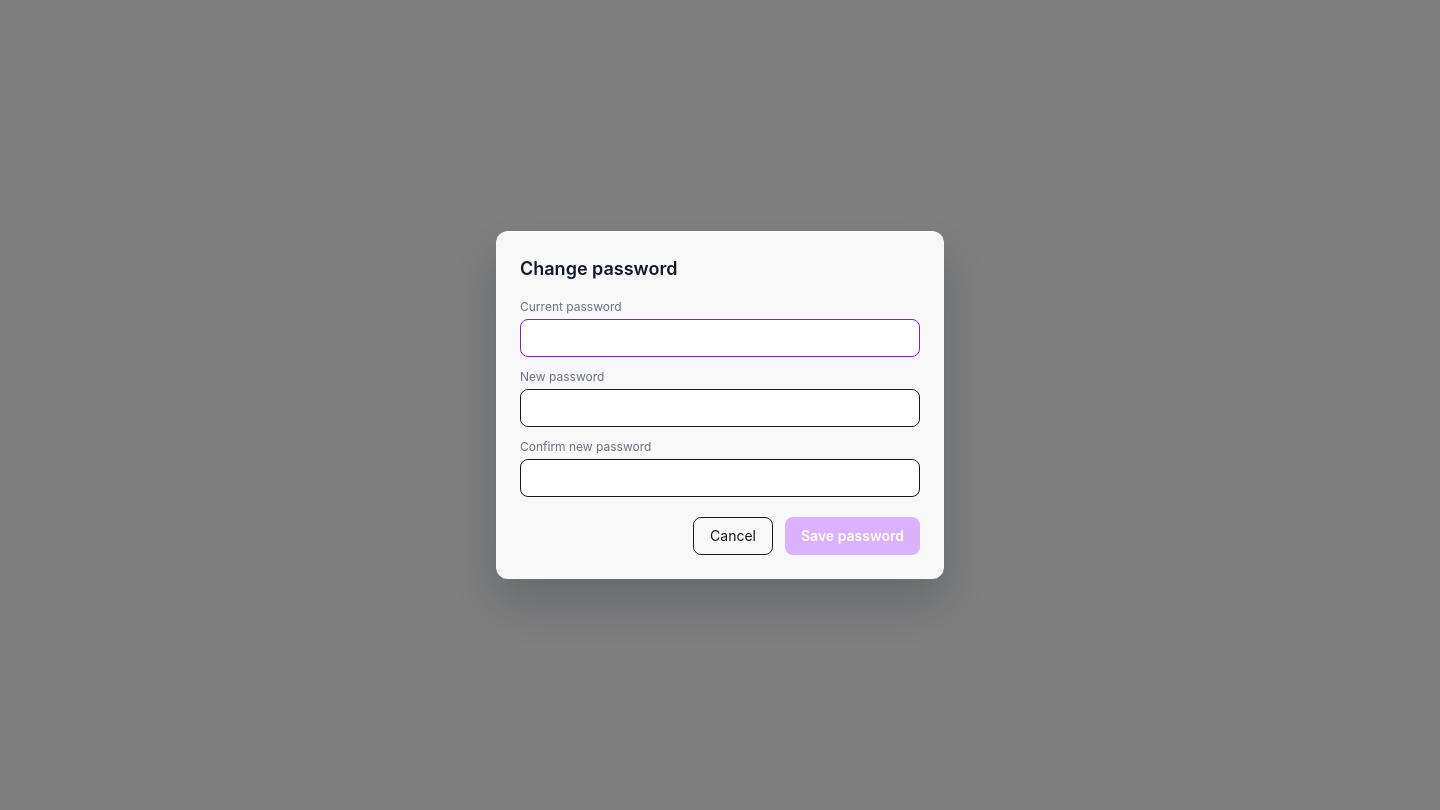
Test: ChangePasswordModal › shows network error on request failure
The width and height of the screenshot is (1440, 810).
Type "current123" into the password field labelled "Current password" at (720, 338), box [520, 319, 920, 357]
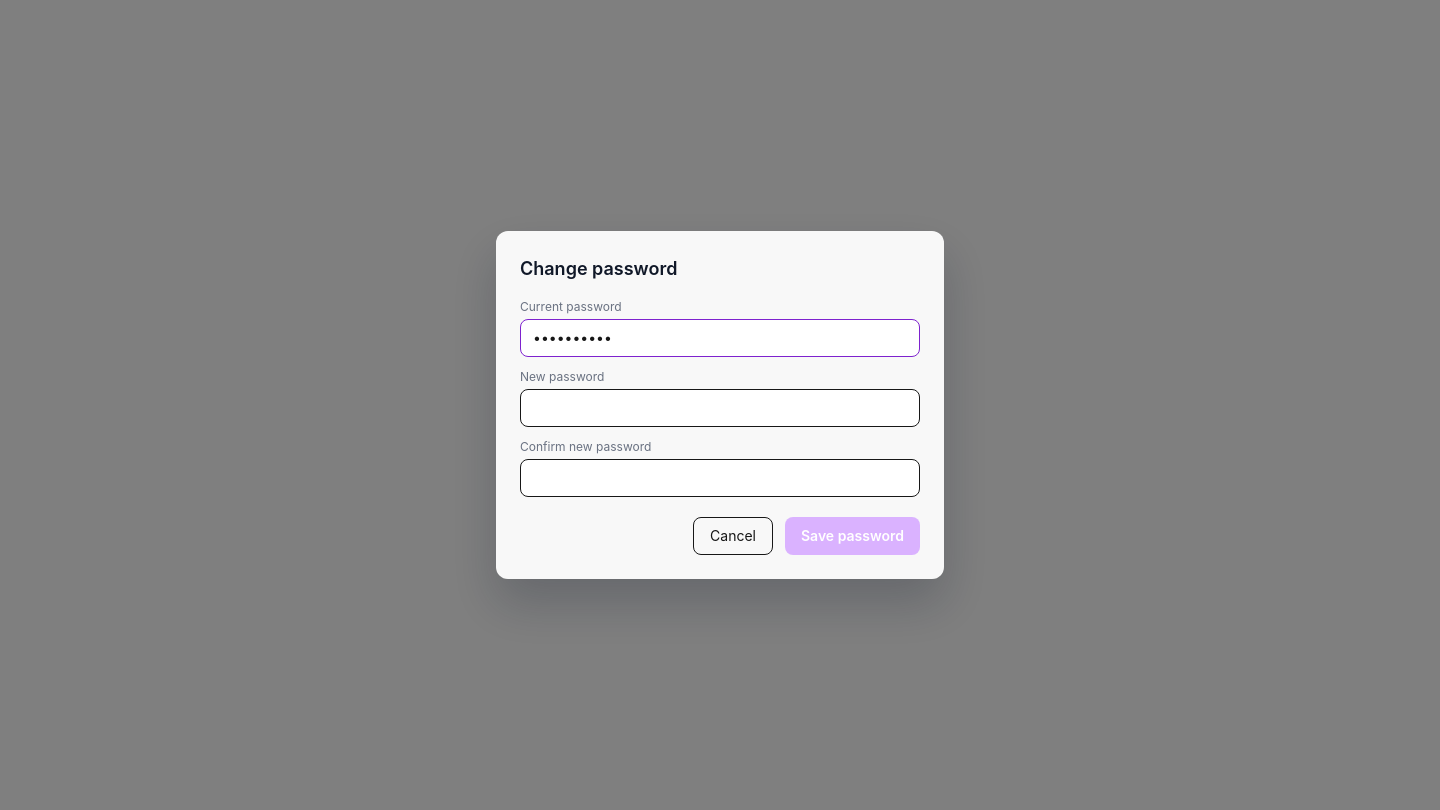
Type "newpassword" into the password field labelled "New password" at (720, 408), box [520, 389, 920, 427]
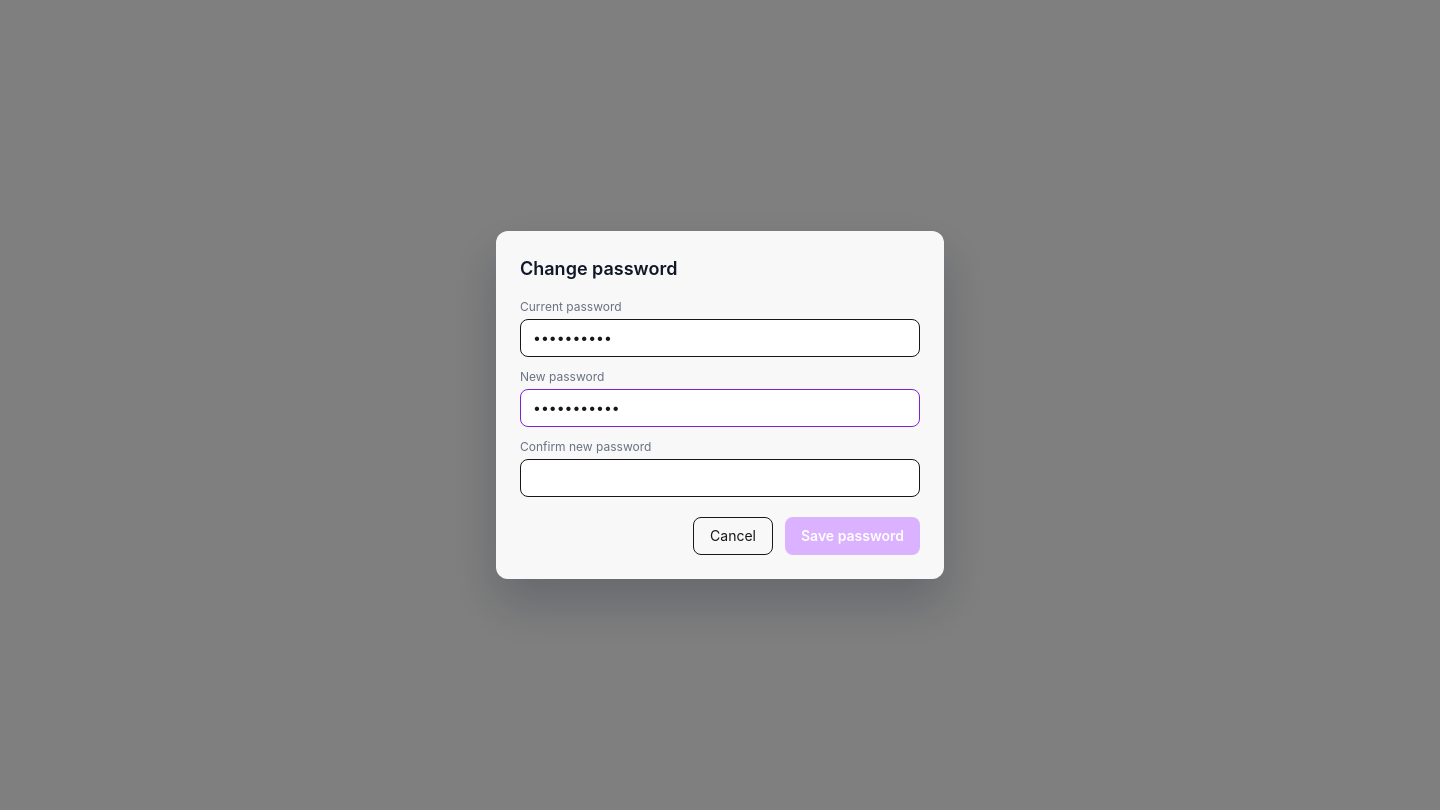
Type "newpassword" into the password field labelled "Confirm new password" at (720, 478), box [520, 459, 920, 497]
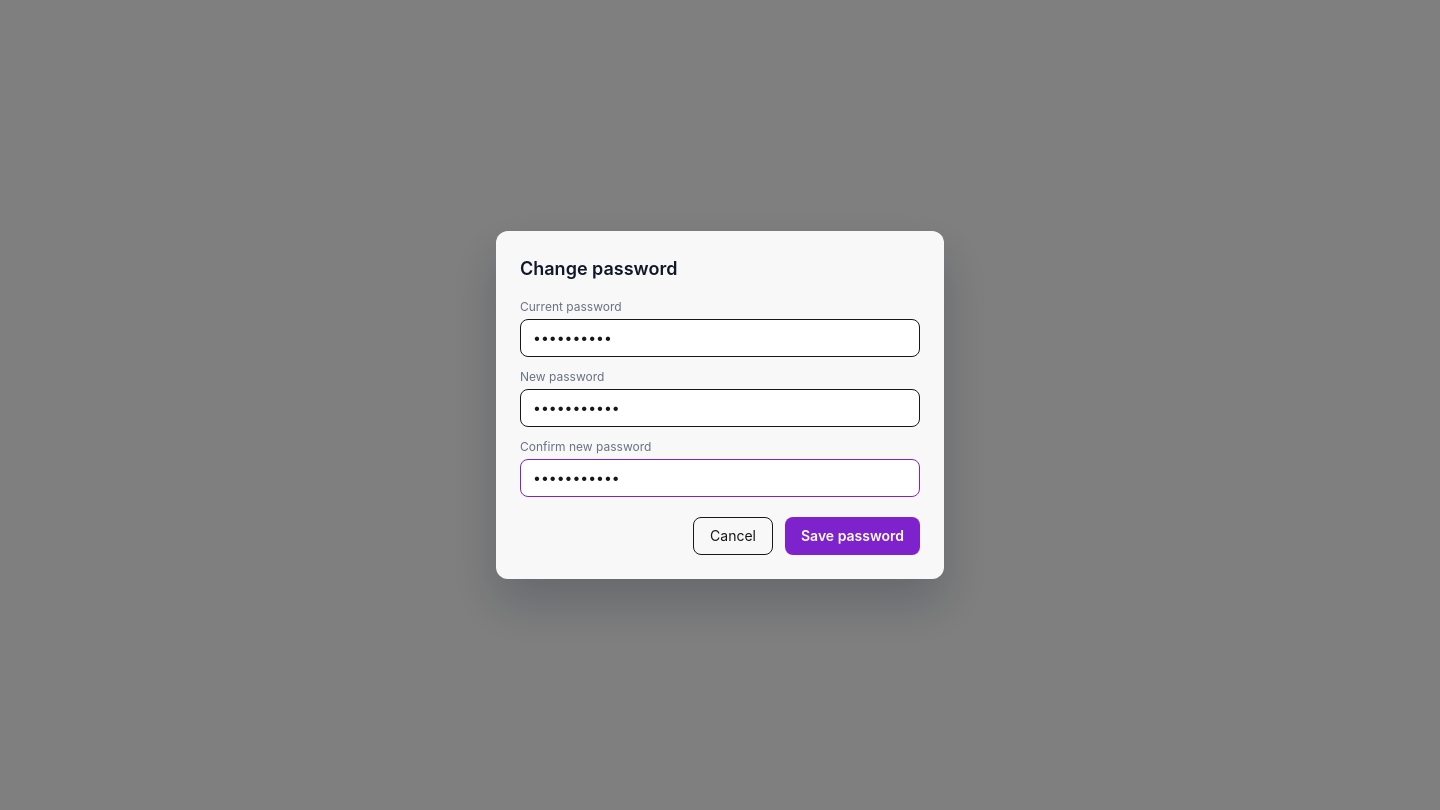
Click the button "Save password" at (852, 536), box [785, 517, 920, 555]
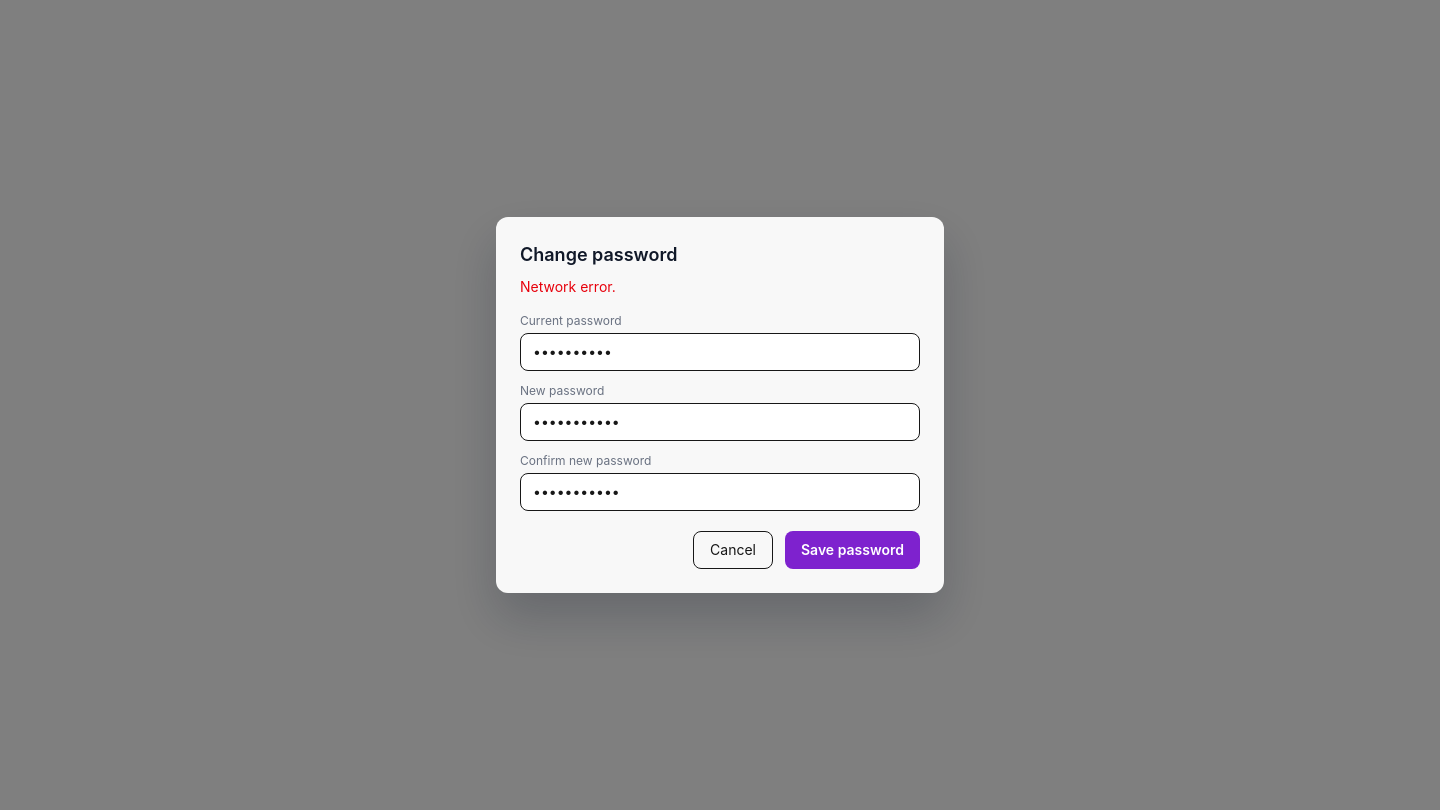
Expected: the message reads "Network error.", [520, 278, 616, 295]
